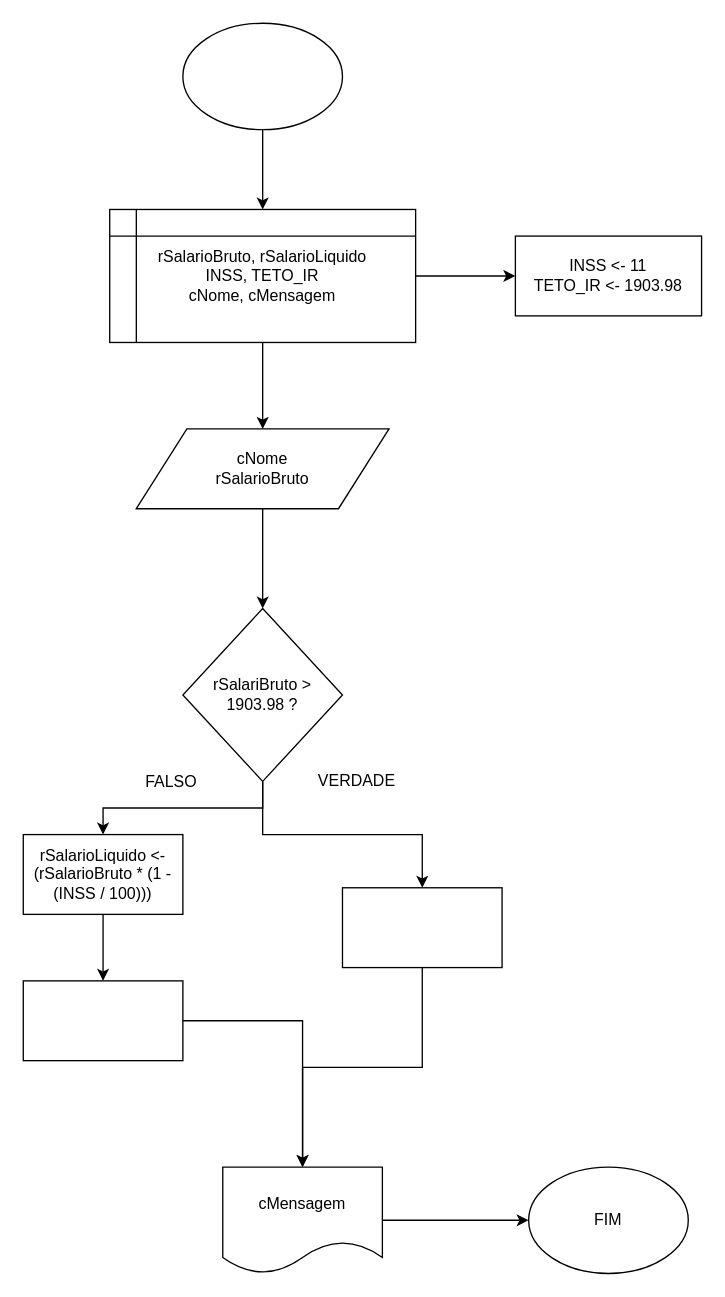
Some shapes in this 725 by 1297 pixel diagram are drawn without their labels. Each missing label, with the box of its shape:
cMensagem <- "Salário maior que teto atual do IR", TETO_IR: (341, 886, 502, 968)
cMensagem <- cNome, " Seu salário liquido é R$: ", rSalarioLiquido: (22, 980, 183, 1061)
INICIO: (182, 22, 342, 130)
